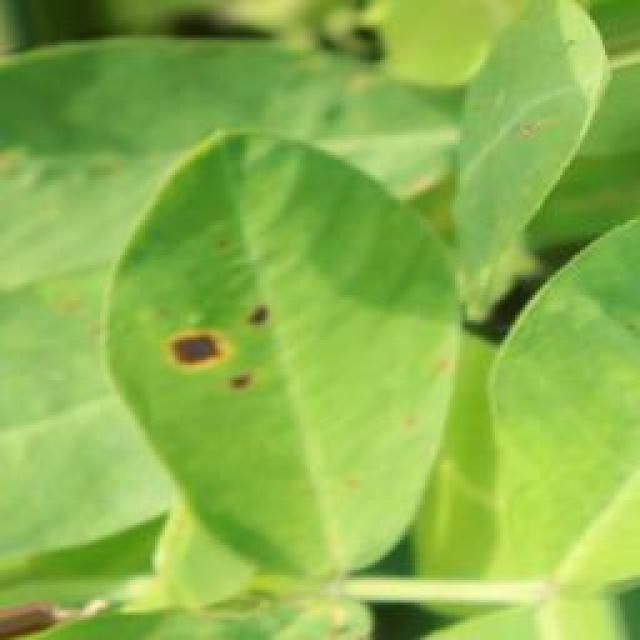Sigatoka: (158, 299, 282, 399)
